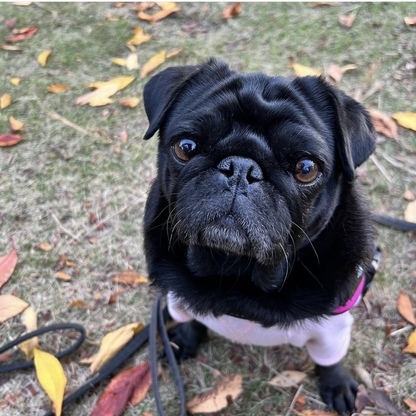Pug: (139, 53, 382, 416)
